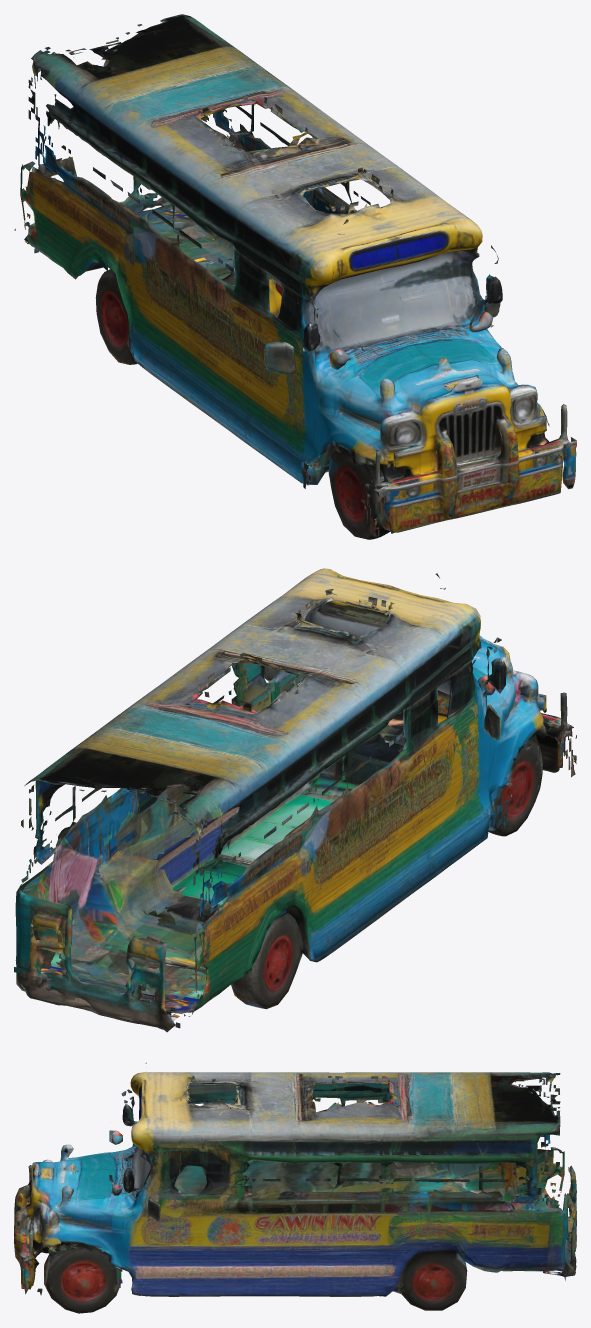
Rendered from colorfulJeep.glb.
3 views of the same model, one above another, from view 1: azimuth 30°, elevation 25°; view 2: azimuth 150°, elevation 25°; view 3: azimuth 270°, elevation 25° (orthographic). The views are drawn at different scales.
Size of the model in its own units: 0.7184 by 0.8096 by 2.
Materials: 1 (1 with a texture image).
